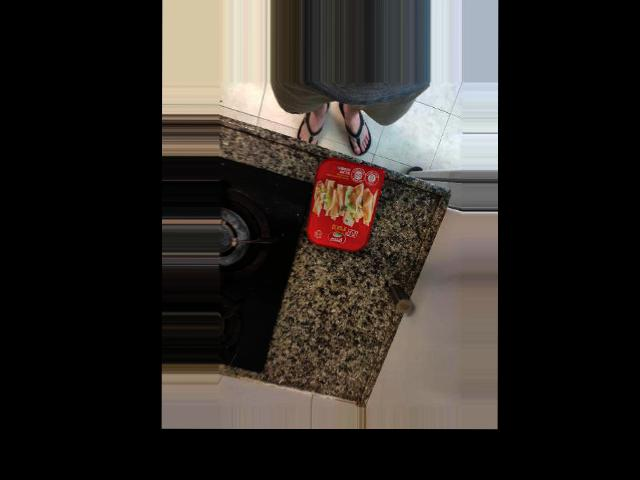cheese: (291, 236, 371, 351)
